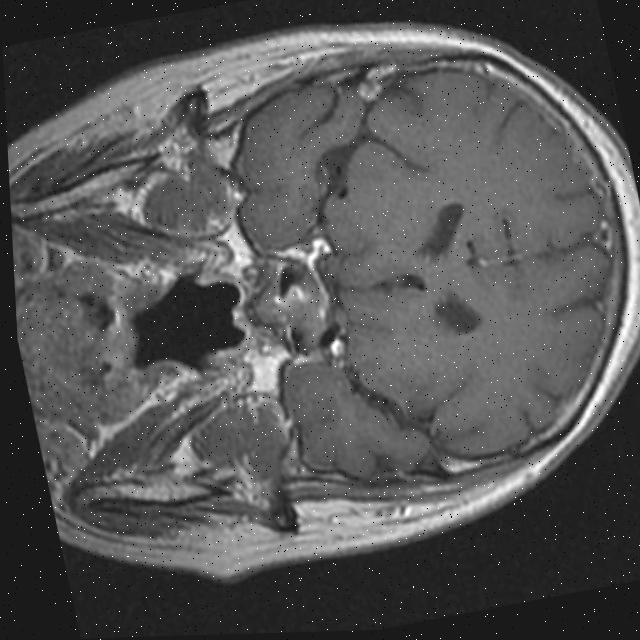Pituitary: (233, 244, 335, 364)
